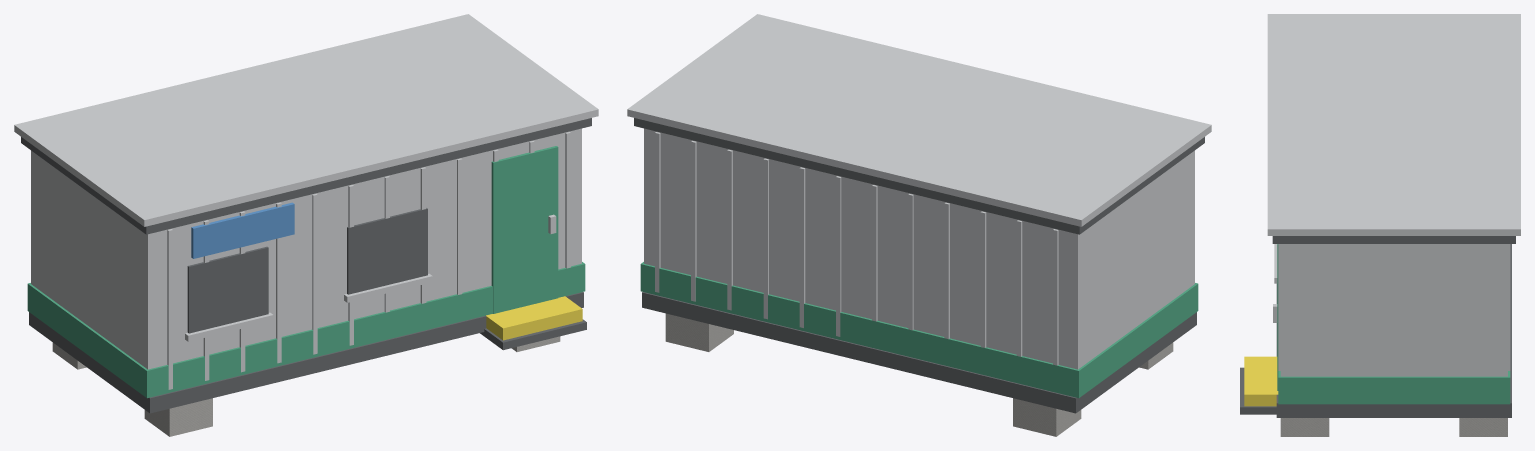
File: recycling-and-waste-transfer-yard-recycling-and-waste--5cd22efe__34922.glb
3 renders of one model, left to right at view 1: azimuth 30°, elevation 25°; view 2: azimuth 150°, elevation 25°; view 3: azimuth 270°, elevation 25°, orthographic. The views are drawn at different scales.
Visible parts, largest first — view 1: recycling-and-waste-transfer-yard-site-office-cabin; view 2: recycling-and-waste-transfer-yard-site-office-cabin; view 3: recycling-and-waste-transfer-yard-site-office-cabin.
Part boxes in pixels (x1=…): recycling-and-waste-transfer-yard-site-office-cabin: x1=14, y1=14, x2=598, y2=436; recycling-and-waste-transfer-yard-site-office-cabin: x1=627, y1=14, x2=1211, y2=436; recycling-and-waste-transfer-yard-site-office-cabin: x1=1240, y1=14, x2=1520, y2=436.
Size of the model in its own units: 6.28 by 3.03 by 3.46.
Materials: 6 (1 with a texture image).
